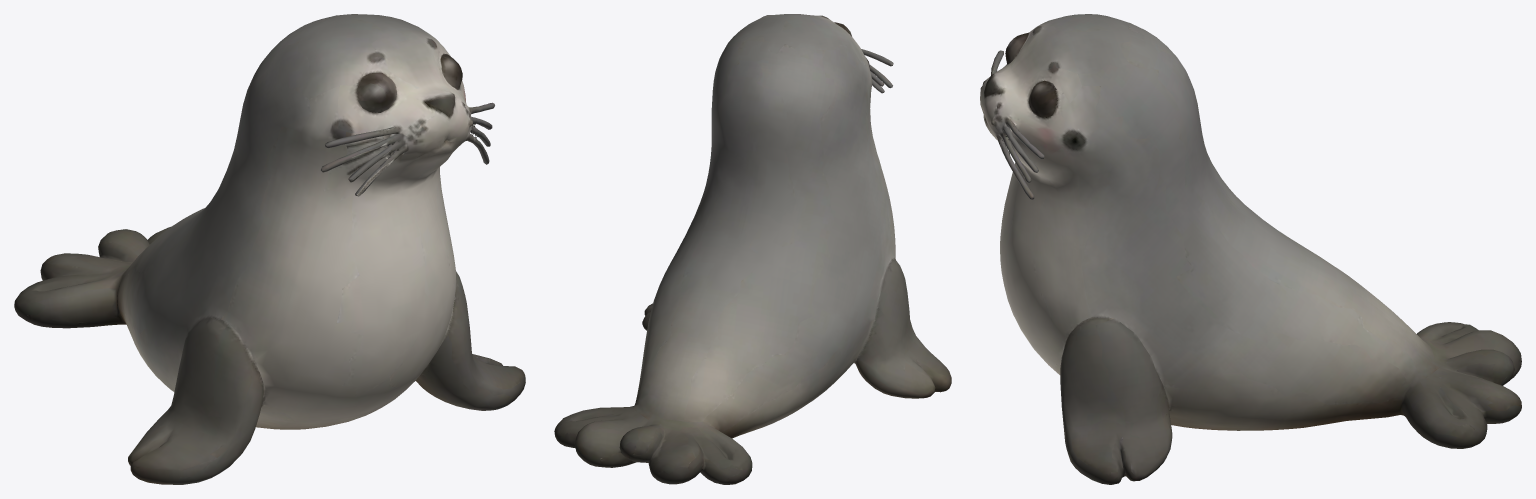
Rendered from seal.glb.
The picture shows the model from 3 angles, left to right: view 1: azimuth 30°, elevation 25°; view 2: azimuth 150°, elevation 25°; view 3: azimuth 270°, elevation 25°; orthographic projection. The views are drawn at different scales.
Size of the model in its own units: 0.7765 by 0.8023 by 1.01.
Materials: 1 (1 with a texture image).
